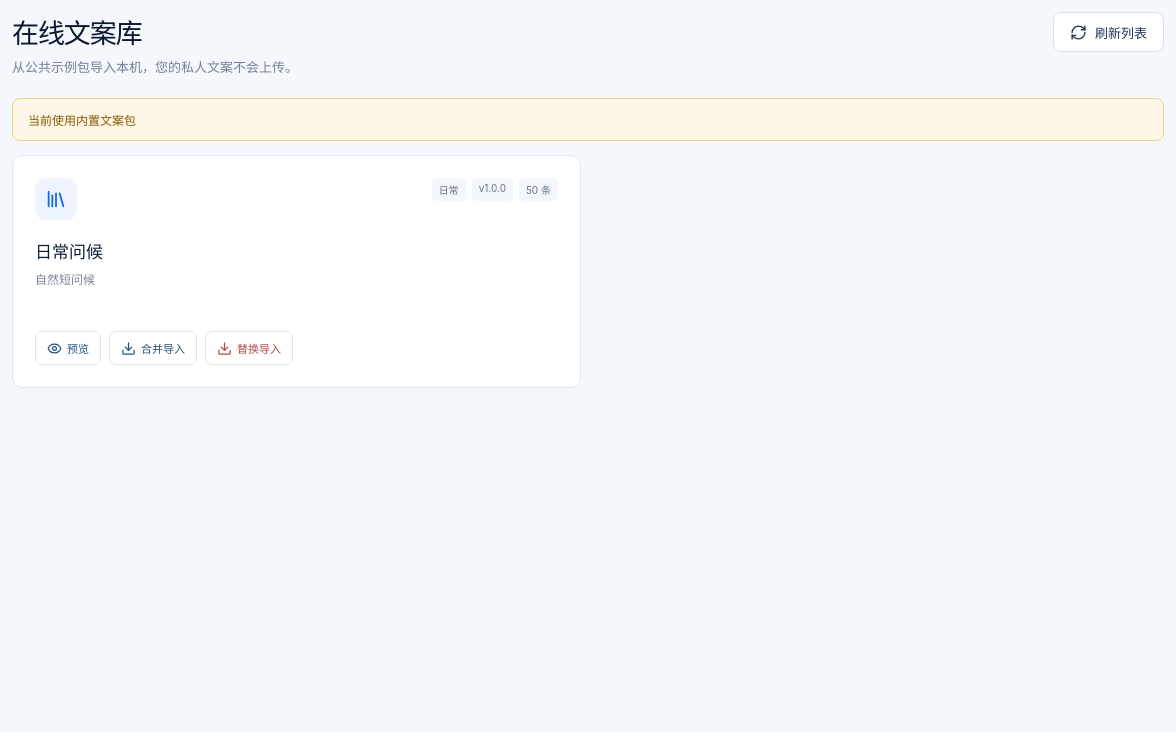
Test: lists and previews a message pack
Expected: the heading "日常问候" is shown, [35, 242, 103, 262]
Click the button "预览": (68, 348) [35, 331, 101, 365]
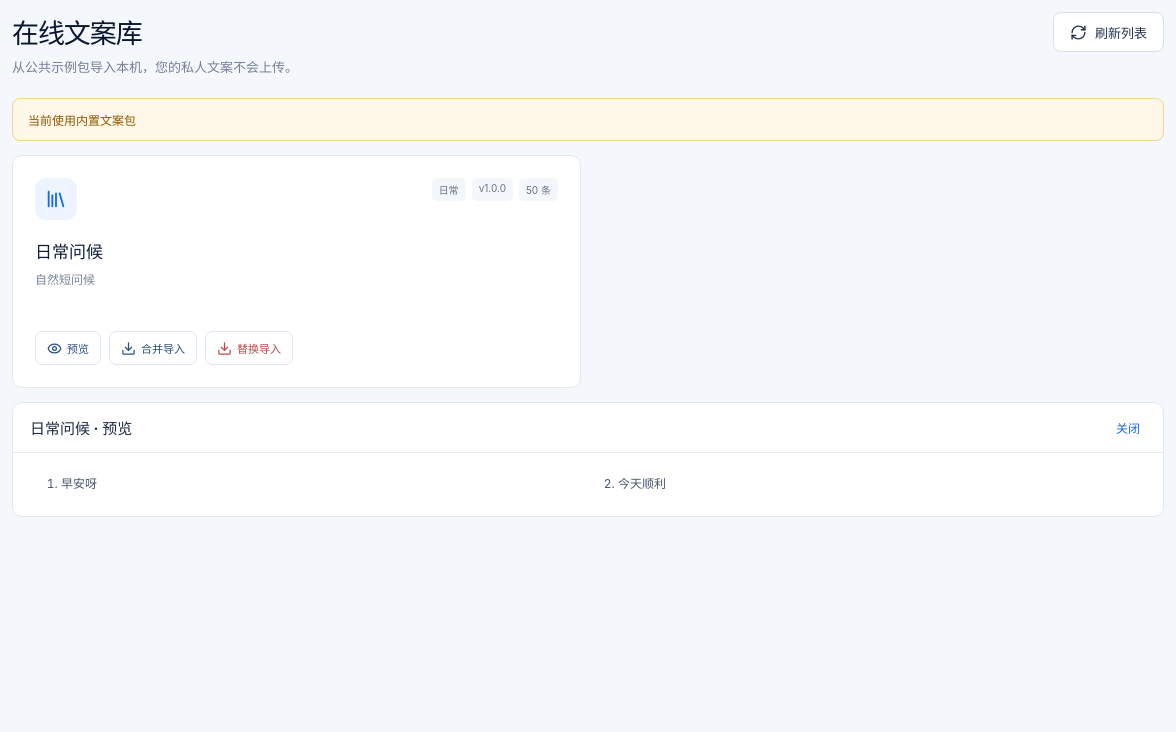
Now the list item "早安呀" is shown, box [61, 476, 97, 491]
Now the list item "今天顺利" is shown, box [618, 476, 666, 491]
